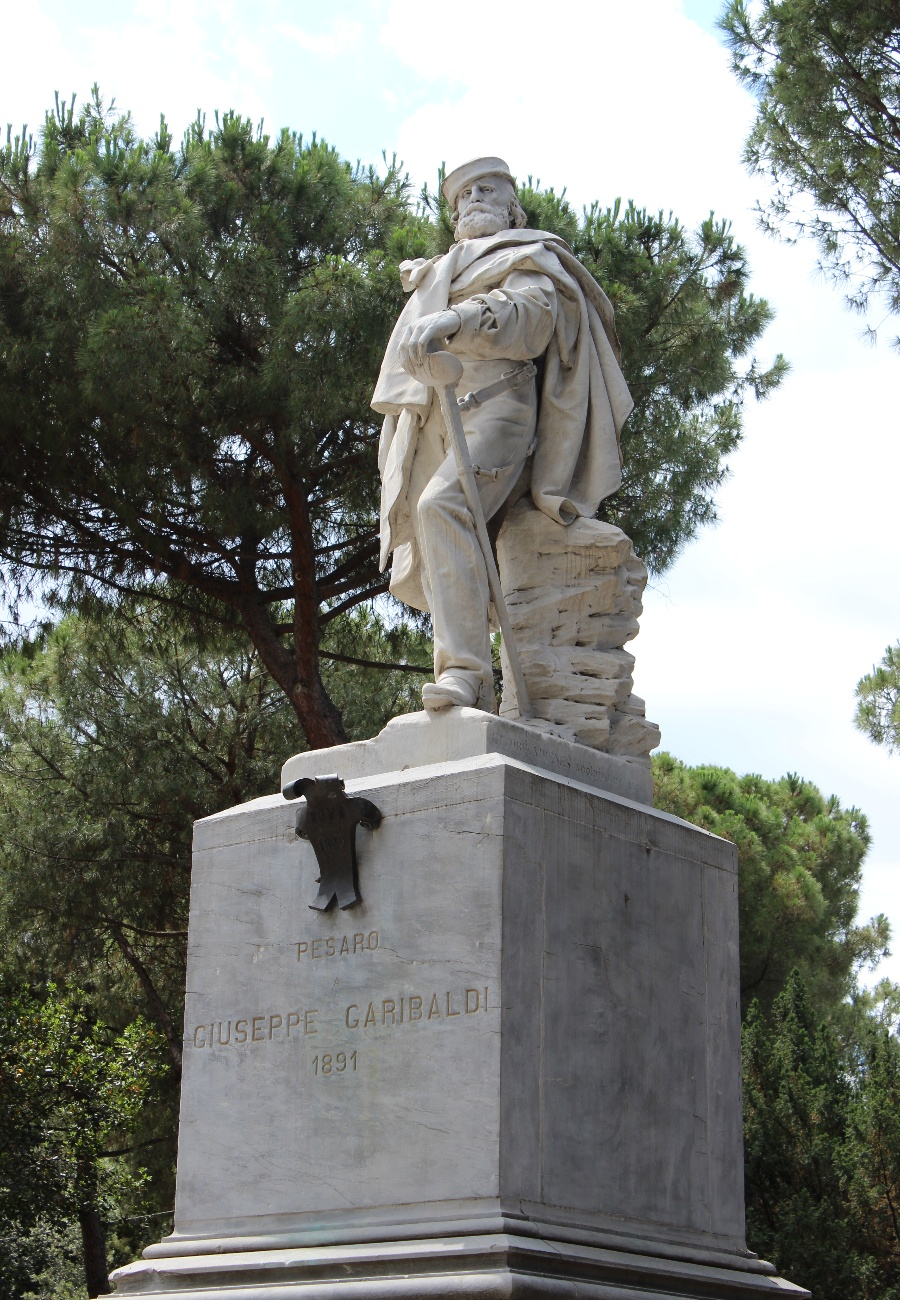Giuseppe Garibaldi: (369, 157, 637, 774)
